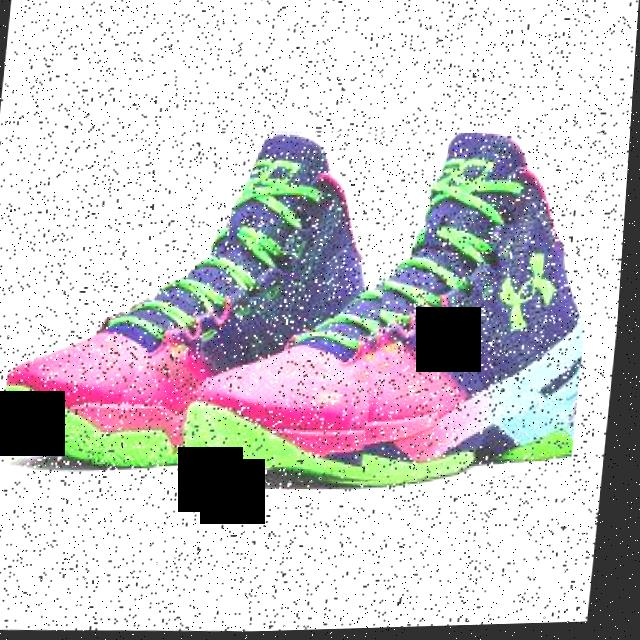shoe: (196, 124, 607, 498), (3, 116, 406, 478)
